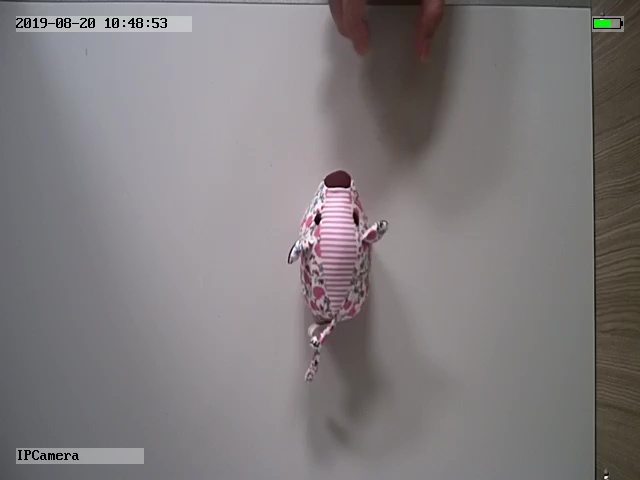pig: (285, 167, 390, 385)
